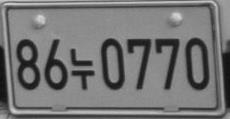0: (184, 36, 210, 91), (99, 37, 125, 90)
6: (44, 38, 68, 91)
7: (154, 37, 180, 90), (126, 38, 151, 90)
8: (15, 38, 41, 90)
누: (70, 48, 95, 90)
